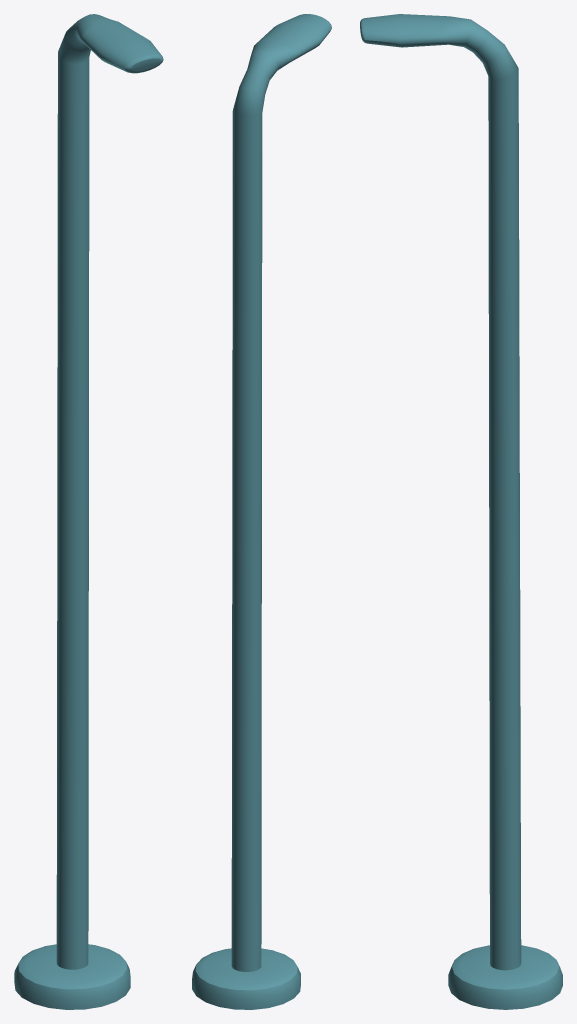
File: Poste de Luz.fbx
3 renders of one model, left to right at view 1: azimuth 30°, elevation 25°; view 2: azimuth 150°, elevation 25°; view 3: azimuth 270°, elevation 25°, orthographic. The views are drawn at different scales.
Visible parts, largest first — view 1: pCylinder5; view 2: pCylinder5; view 3: pCylinder5.
Boxes of the visible parts, left/top/right/bottom form: pCylinder5: left=14, top=14, right=163, bottom=1009; pCylinder5: left=192, top=14, right=331, bottom=1009; pCylinder5: left=360, top=14, right=562, bottom=1009.
Size of the model in its own units: 37.88 by 353 by 67.11.
